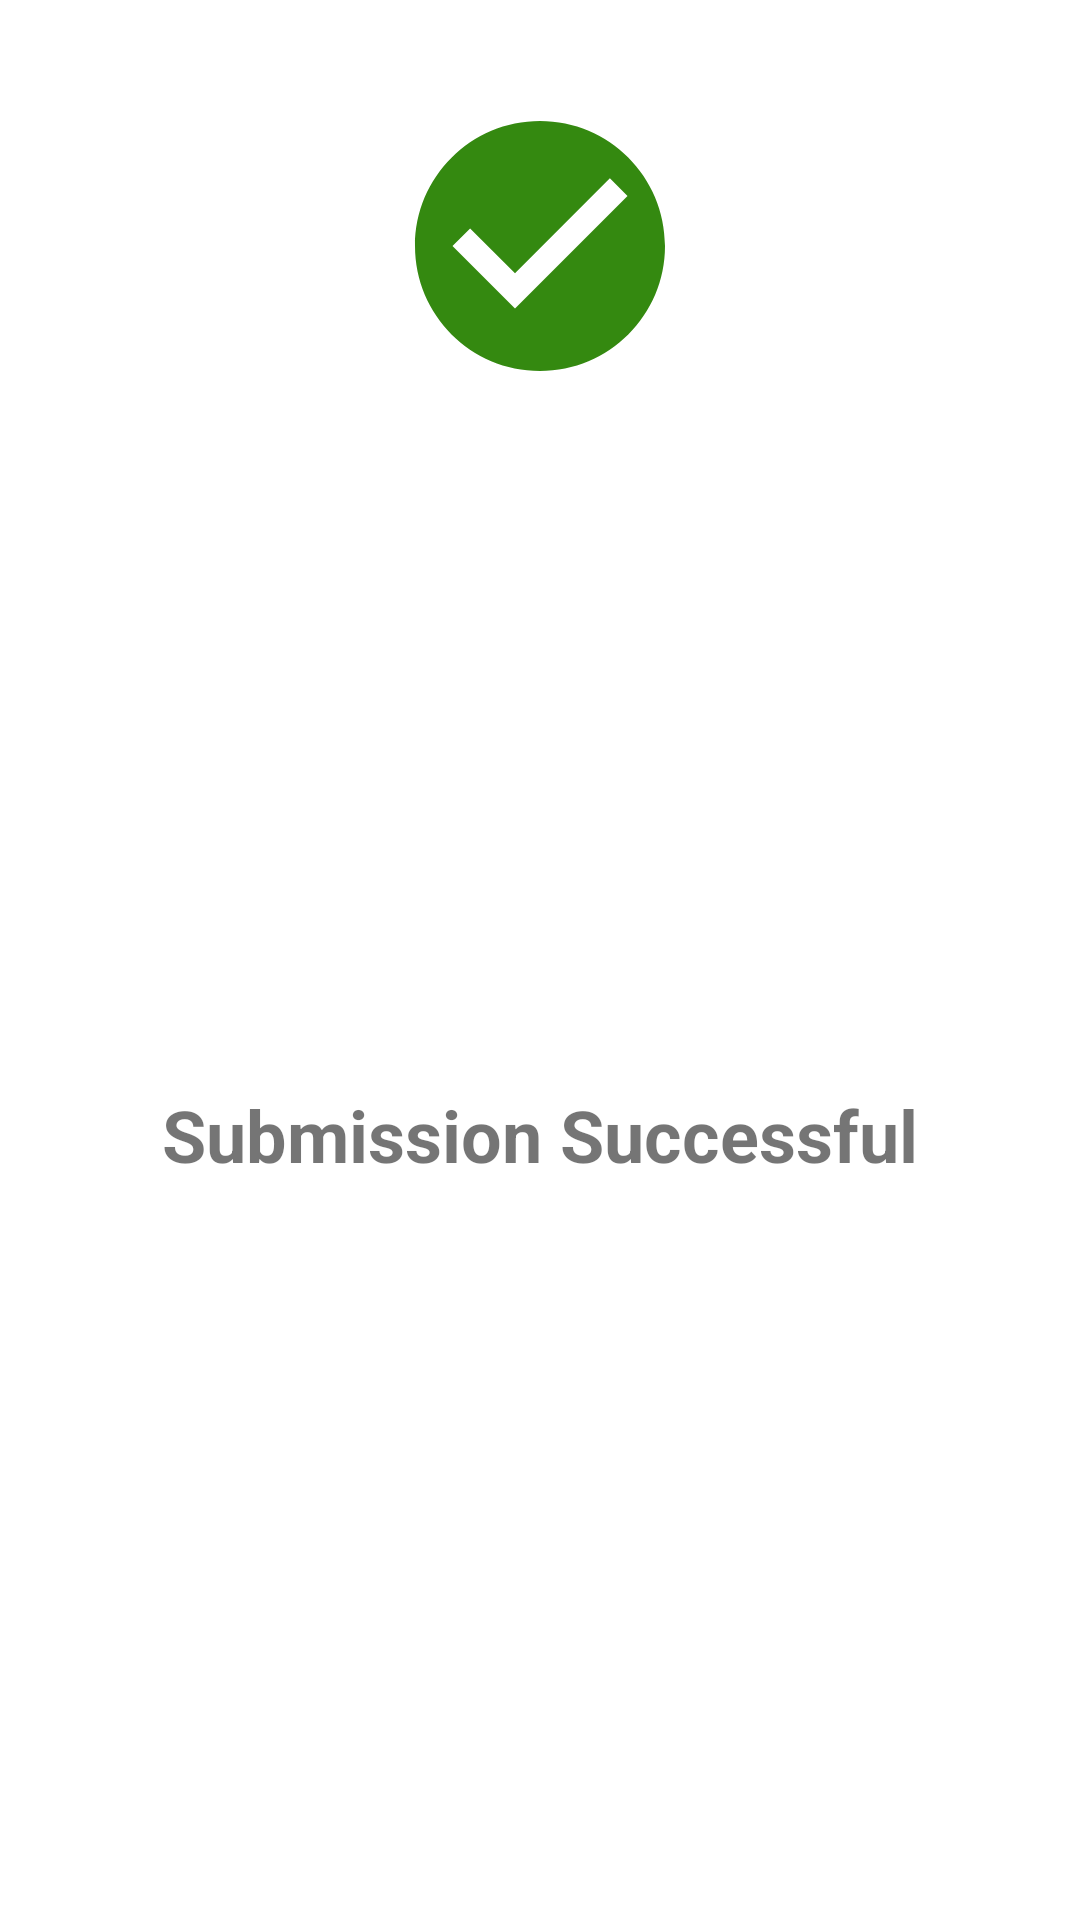

Icons on this 1080x1920 Android screen, each with its box as (x1, y1, x2, y2):
Submission Successful: (415, 121, 665, 371)
